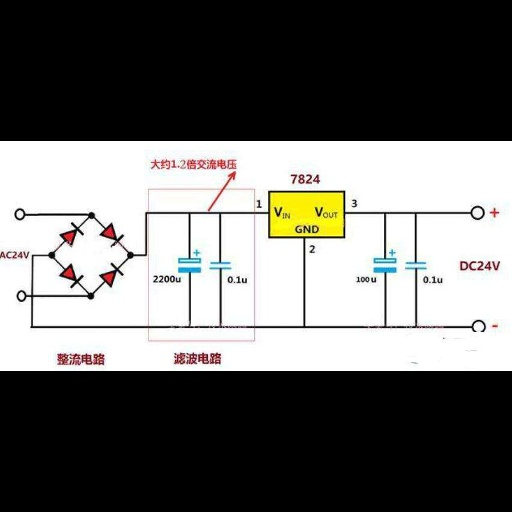capacitor: (403, 259, 431, 273), (207, 258, 234, 272)
rectifierbridge: (48, 214, 133, 297)
